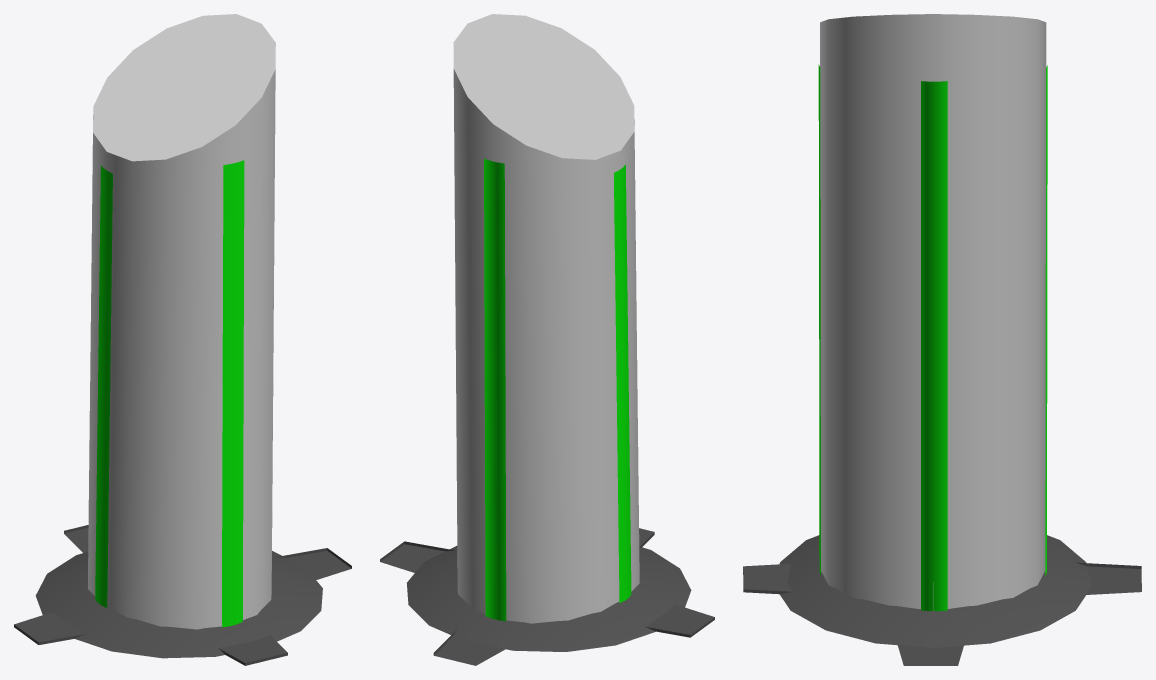
Rendered from buttonbase.gltf.
The picture shows the model from 3 angles, left to right: view 1: azimuth 30°, elevation 25°; view 2: azimuth 150°, elevation 25°; view 3: azimuth 270°, elevation 25°; orthographic projection. The views are drawn at different scales.
Visible parts, largest first — view 1: Node; view 2: Node; view 3: Node.
Boxes of the visible parts, x1,y1,x2,y2 form: Node: (14,14,351,665); Node: (380,14,714,665); Node: (743,14,1141,665).
Bounding box in the file's own units: 1.13 × 1.91 × 1.13.
